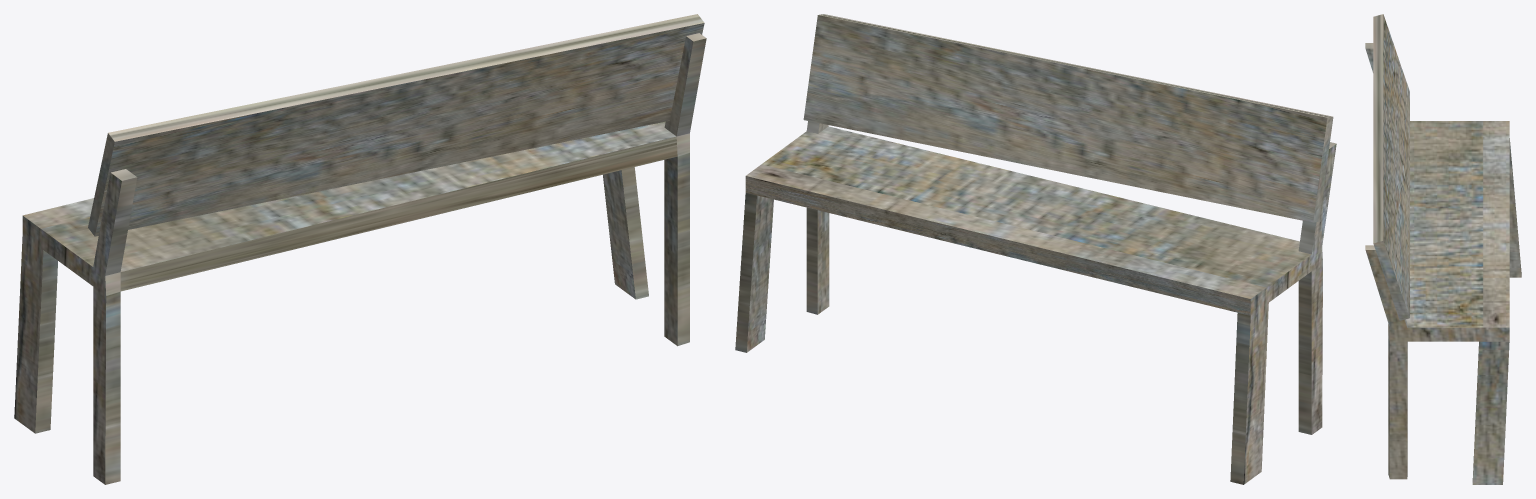
File: Bench.fbx
3 renders of one model, left to right at view 1: azimuth 30°, elevation 25°; view 2: azimuth 150°, elevation 25°; view 3: azimuth 270°, elevation 25°, orthographic. The views are drawn at different scales.
Visible parts, largest first — view 1: Bench; view 2: Bench; view 3: Bench.
Part boxes in pixels (<box>): Bench: <box>14,14,706,484</box>; Bench: <box>735,14,1336,484</box>; Bench: <box>1365,14,1521,484</box>.
Bounding box in the file's own units: 273 × 153 × 84.13.
Materials: 1 (1 with a texture image).
